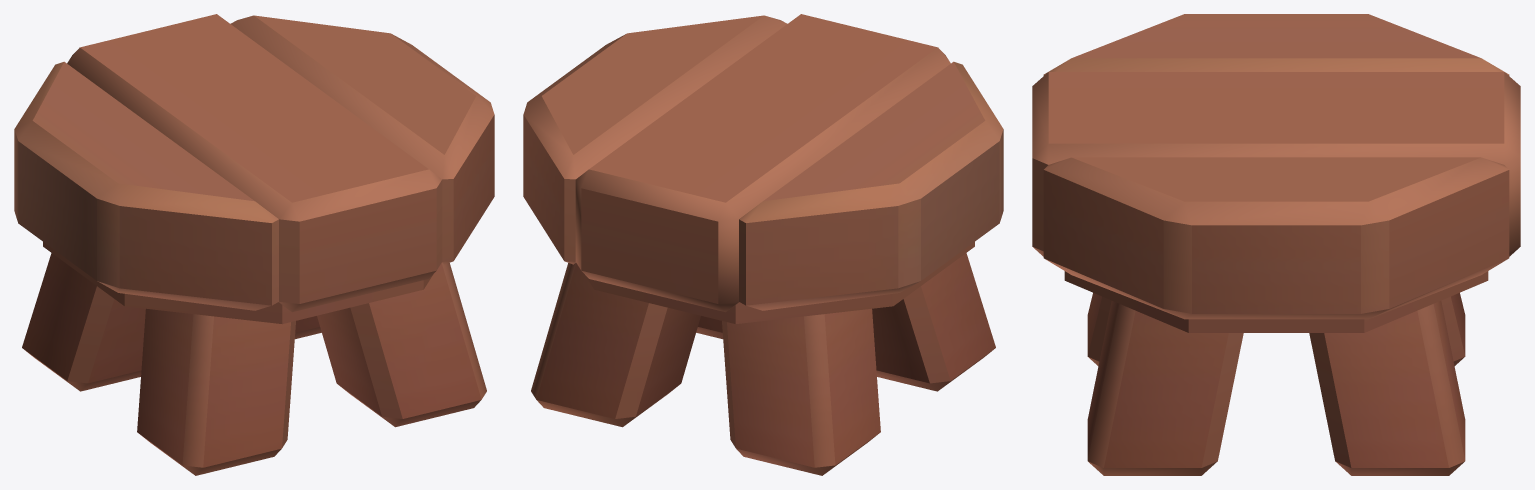
File: stool_round.glb
3 renders of one model, left to right at view 1: azimuth 30°, elevation 25°; view 2: azimuth 150°, elevation 25°; view 3: azimuth 270°, elevation 25°, orthographic. The views are drawn at different scales.
Visible parts, largest first — view 1: stool_round; view 2: stool_round; view 3: stool_round.
Part boxes in pixels (x1=…): stool_round: x1=14, y1=14, x2=494, y2=475; stool_round: x1=523, y1=14, x2=1003, y2=475; stool_round: x1=1032, y1=14, x2=1520, y2=475.
Size of the model in its own units: 0.75 by 0.5 by 0.75.
Materials: 1 (1 with a texture image).
